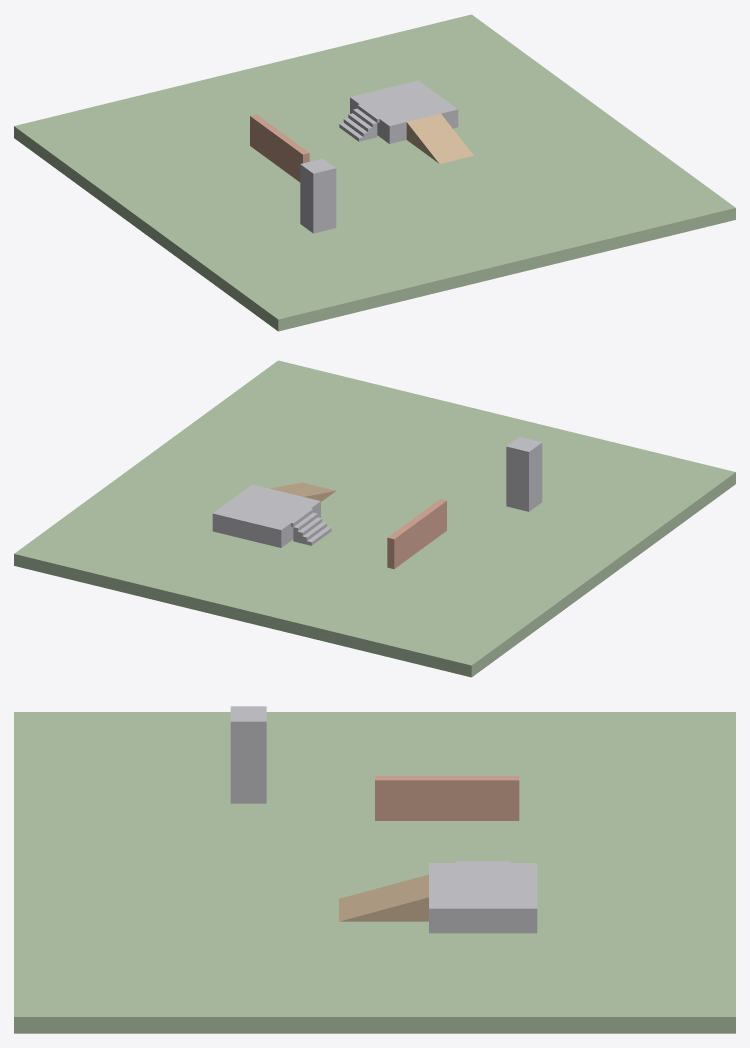
The model's file is taso.gltf.
3 views of the same model, one above another, from view 1: azimuth 30°, elevation 25°; view 2: azimuth 150°, elevation 25°; view 3: azimuth 270°, elevation 25° (orthographic). The views are drawn at different scales.
Visible parts, largest first — view 1: maa, tasanne, torni, ramppi, muuri; view 2: maa, tasanne, torni, muuri, ramppi; view 3: maa, tasanne, muuri, torni, ramppi.
Part boxes in pixels (left/top/right/bottom): maa: left=14, top=14, right=735, bottom=331; tasanne: left=350, top=80, right=458, bottom=143; torni: left=300, top=158, right=336, bottom=233; ramppi: left=406, top=113, right=473, bottom=163; muuri: left=250, top=114, right=309, bottom=182; maa: left=14, top=360, right=735, bottom=677; tasanne: left=212, top=484, right=320, bottom=547; torni: left=506, top=437, right=542, bottom=511; muuri: left=387, top=499, right=446, bottom=568; ramppi: left=270, top=482, right=336, bottom=501; maa: left=14, top=712, right=735, bottom=1033; tasanne: left=429, top=863, right=537, bottom=933; muuri: left=375, top=775, right=519, bottom=820; torni: left=230, top=706, right=266, bottom=803; ramppi: left=339, top=874, right=428, bottom=921.
Bounding box in the file's own units: 40 × 6 × 40.
